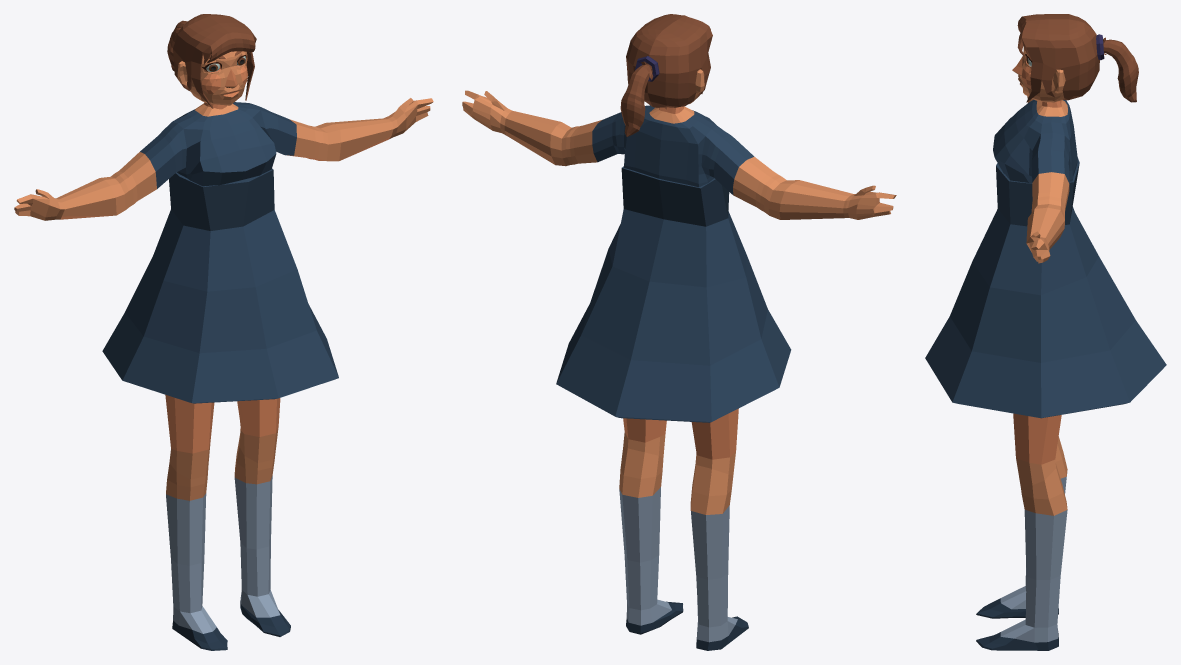
The model's file is Claire_3D_Model.fbx.
3 views of the same model, side by side, from view 1: azimuth 30°, elevation 25°; view 2: azimuth 150°, elevation 25°; view 3: azimuth 270°, elevation 25° (orthographic). The views are drawn at different scales.
Parts seen in each view (by area): view 1: body_mesh, skirt; view 2: body_mesh, skirt; view 3: skirt, body_mesh.
Boxes of the visible parts, x1,y1,x2,y2 form: body_mesh: (14, 14, 433, 650); skirt: (102, 168, 338, 403); body_mesh: (462, 14, 896, 650); skirt: (556, 166, 791, 422); skirt: (925, 157, 1166, 418); body_mesh: (976, 14, 1138, 650).
Bounding box in the file's own units: 383 × 523 × 188.
